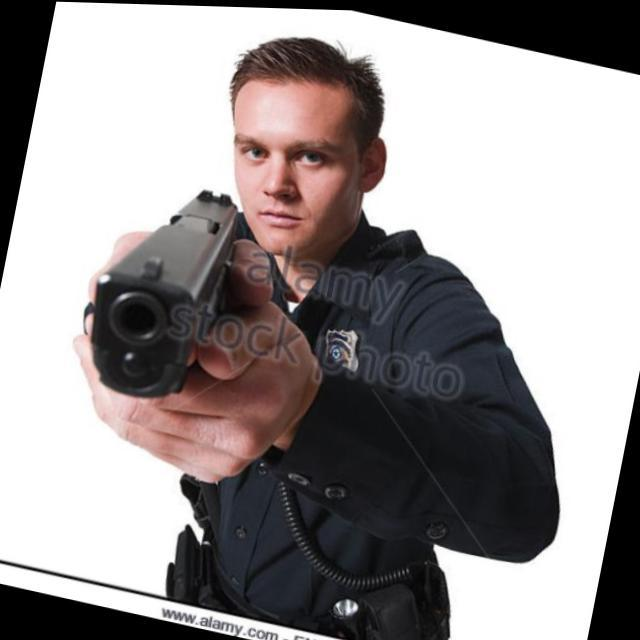weapon: (71, 166, 246, 412)
